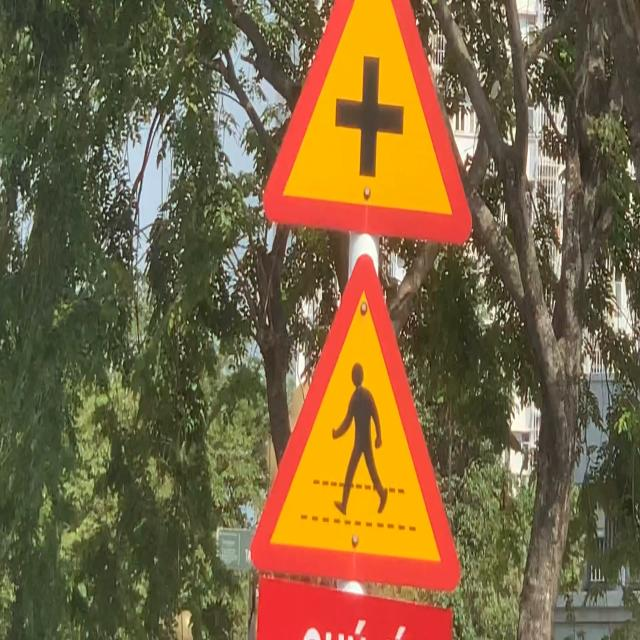W.205a: (257, 0, 484, 257)
W.224: (242, 246, 468, 599)
